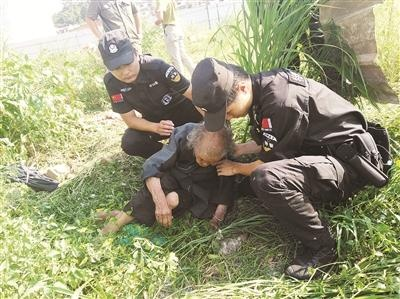falling: (102, 112, 248, 250)
